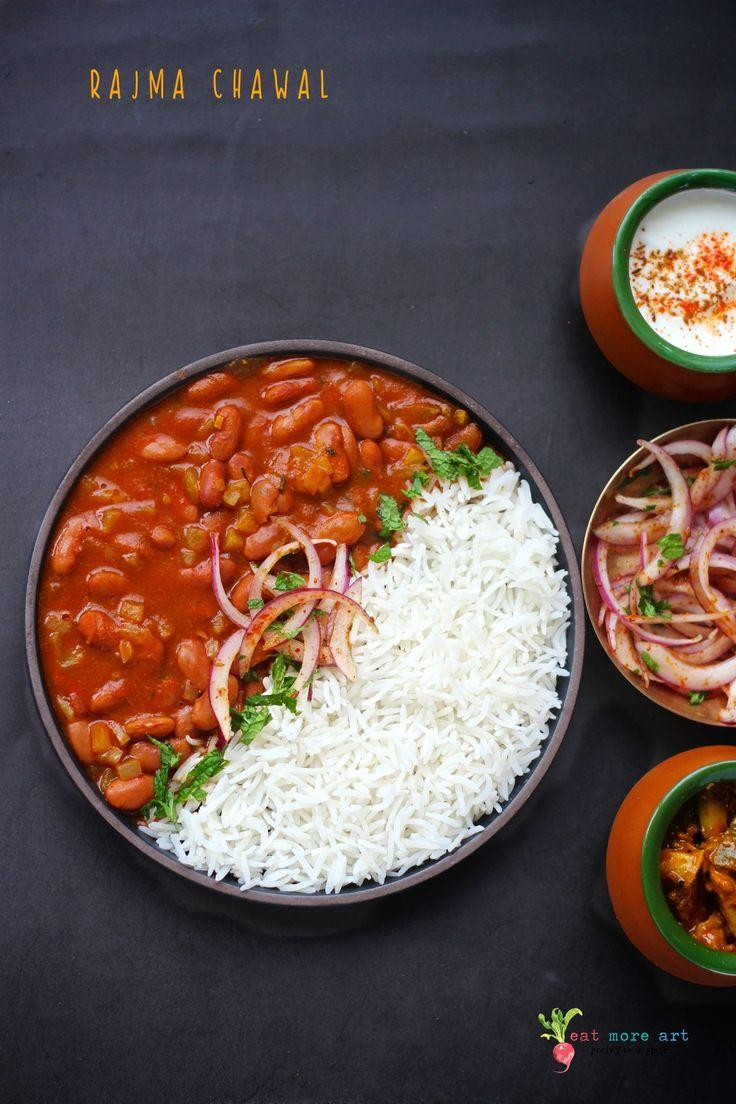rajma: (53, 353, 383, 610)
rice: (287, 613, 550, 863)
